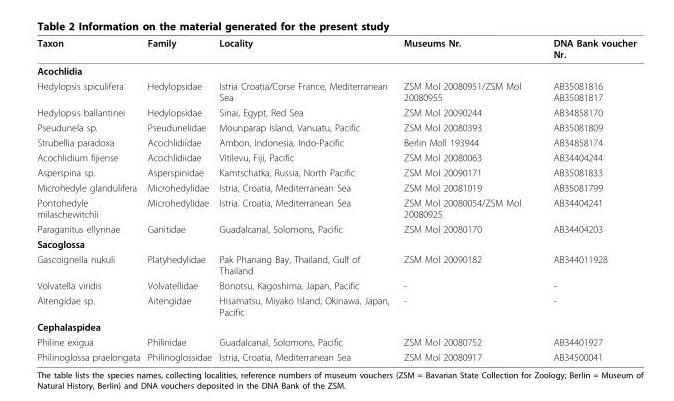table: (36, 36, 635, 362)
table column: (214, 36, 395, 362), (395, 36, 536, 362), (36, 36, 143, 362), (536, 36, 635, 362), (143, 36, 214, 362)
table column header: (36, 36, 635, 62)
table projected row header: (36, 62, 635, 78), (36, 236, 635, 251), (36, 319, 635, 334)
table row: (36, 194, 635, 221), (36, 292, 635, 319), (36, 36, 635, 62), (36, 78, 635, 104), (36, 251, 635, 277), (36, 62, 635, 78), (36, 104, 635, 119), (36, 119, 635, 134), (36, 134, 635, 149), (36, 149, 635, 164), (36, 164, 635, 179), (36, 179, 635, 194), (36, 221, 635, 236), (36, 236, 635, 251), (36, 277, 635, 292), (36, 319, 635, 334), (36, 334, 635, 349), (36, 349, 635, 362)
